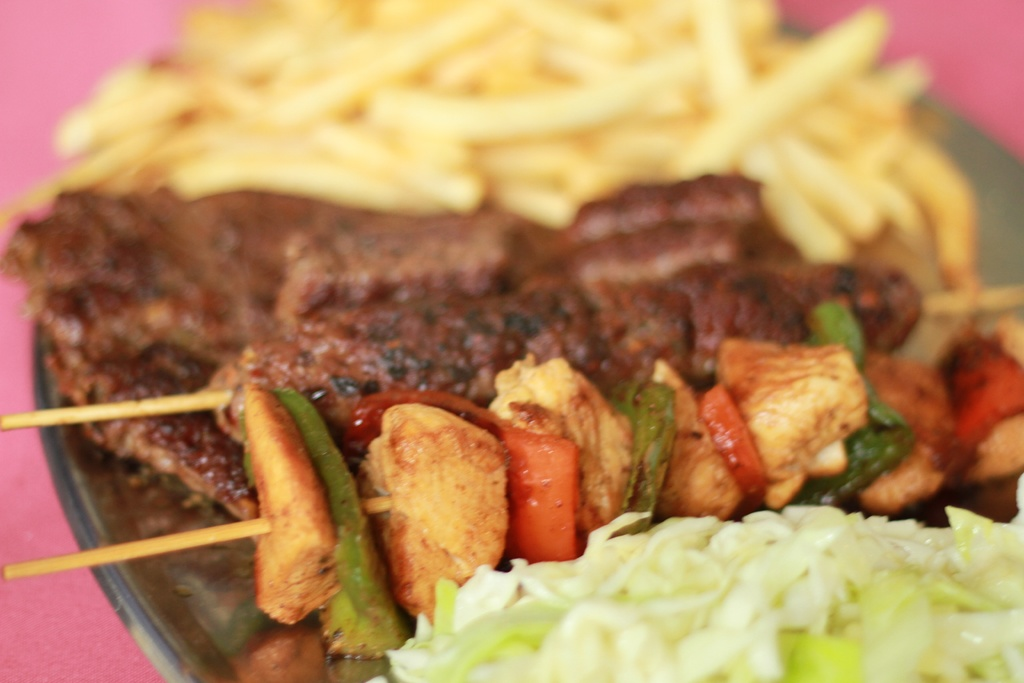French fries: (338, 16, 977, 287)
